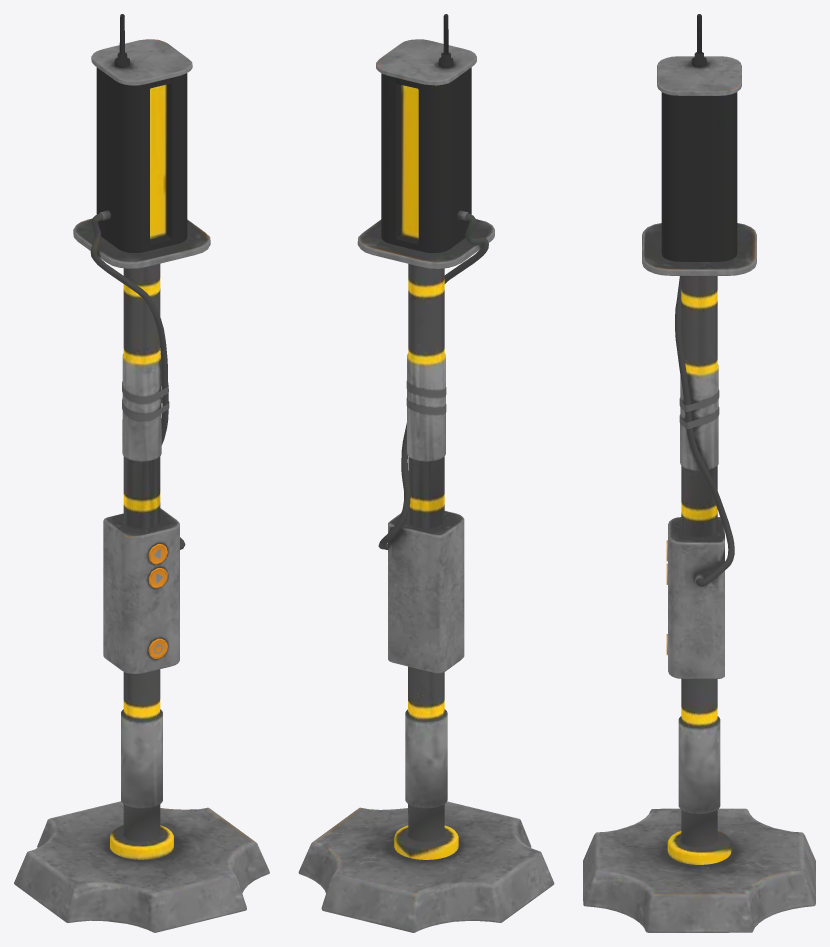
Rendered from buoy.glb.
3 renders of one model, left to right at view 1: azimuth 30°, elevation 25°; view 2: azimuth 150°, elevation 25°; view 3: azimuth 270°, elevation 25°, orthographic.
Parts seen in each view (by area): view 1: buoy; view 2: buoy; view 3: buoy.
Part boxes in pixels (box(x1,y1,x2,y2)): buoy: box(14, 14, 269, 932); buoy: box(298, 14, 554, 932); buoy: box(583, 14, 815, 932).
Bounding box in the file's own units: 2.94 × 12 × 2.94.
Materials: 1 (1 with a texture image).
